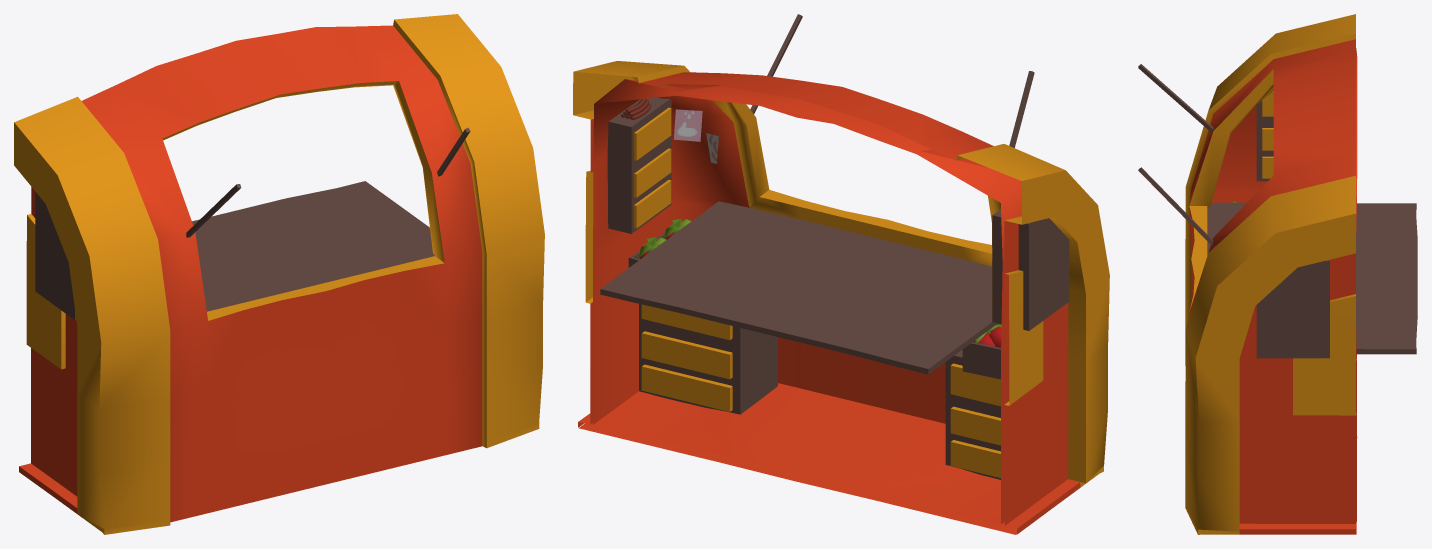
The model's file is hotdog_trailer.fbx.
3 views of the same model, side by side, from view 1: azimuth 30°, elevation 25°; view 2: azimuth 150°, elevation 25°; view 3: azimuth 270°, elevation 25° (orthographic). The views are drawn at different scales.
Visible parts, largest first — view 1: trailer, box_2, stick; view 2: trailer, box, box_2, tomatenkiste_1, poster, stick; view 3: trailer, box_2, stick.
Boxes of the visible parts, left/top/right/bottom form: trailer: left=14, top=14, right=544, bottom=534; box_2: left=35, top=192, right=76, bottom=320; stick: left=186, top=127, right=470, bottom=237; trailer: left=573, top=61, right=1109, bottom=534; box: left=639, top=304, right=1000, bottom=479; box_2: left=607, top=97, right=1069, bottom=330; tomatenkiste_1: left=628, top=218, right=1001, bottom=379; poster: left=673, top=109, right=718, bottom=163; stick: left=750, top=14, right=1034, bottom=147; trailer: left=1185, top=14, right=1417, bottom=534; box_2: left=1256, top=91, right=1329, bottom=358; stick: left=1138, top=64, right=1213, bottom=245.
Size of the model in its own units: 143 by 117 by 84.7.
8 materials, 2 textured.
